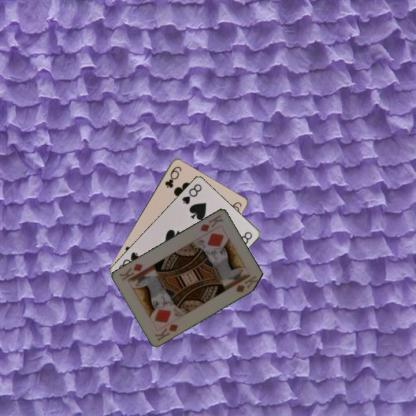6c: (162, 163, 183, 189)
8s: (179, 181, 203, 206)
Kd: (152, 321, 180, 343), (198, 212, 224, 233)
